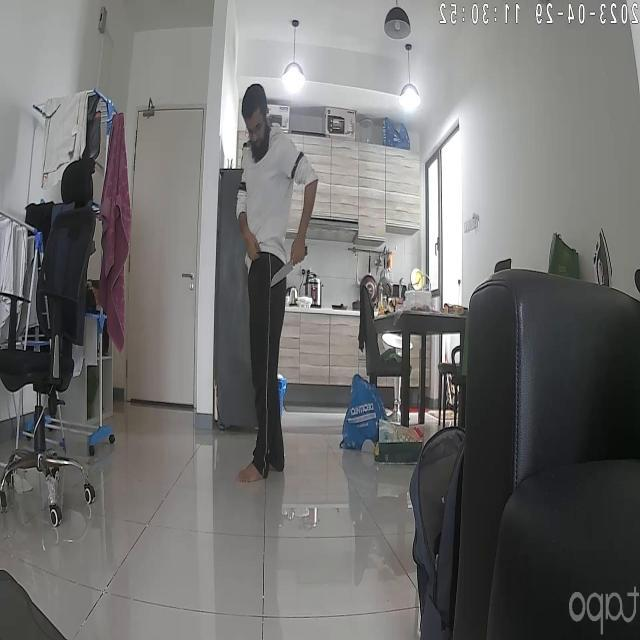Knife: (262, 253, 318, 291)
